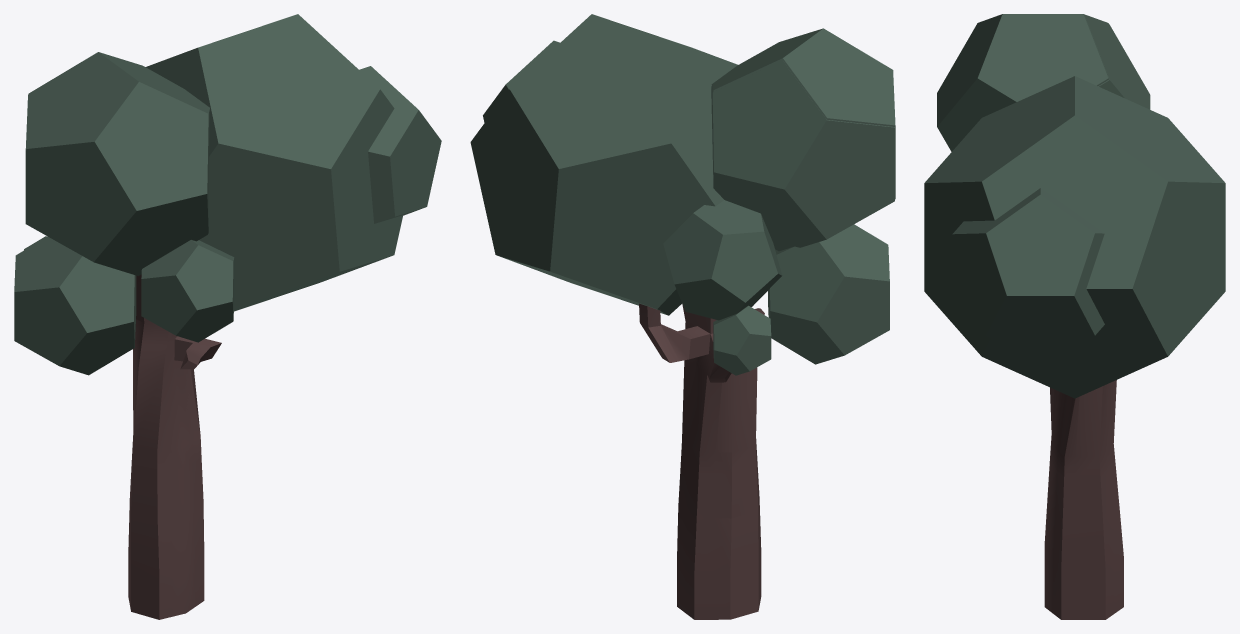
Rendered from bm-tree-green.gltf.
3 renders of one model, left to right at view 1: azimuth 30°, elevation 25°; view 2: azimuth 150°, elevation 25°; view 3: azimuth 270°, elevation 25°, orthographic.
Parts seen in each view (by area): view 1: Dodecahedron 8 (×5), Cube, Cube 2; view 2: Dodecahedron 8 (×6), Dodecahedron 3, Cube, Cube 2; view 3: Dodecahedron 8 (×3), Cube 2, Cube, Dodecahedron 3.
Part boxes in pixels (x1,y1,x2,y2): Dodecahedron 8 (×5): (14, 14, 441, 375); Cube: (132, 319, 204, 605); Cube 2: (128, 274, 221, 619); Dodecahedron 8 (×6): (470, 14, 895, 375); Dodecahedron 3: (711, 60, 894, 251); Cube: (639, 303, 756, 619); Cube 2: (661, 308, 764, 619); Dodecahedron 8 (×3): (924, 14, 1225, 398); Cube 2: (1044, 386, 1117, 619); Cube: (1047, 380, 1123, 619); Dodecahedron 3: (1085, 16, 1150, 109).
Size of the model in its own units: 7.49 by 10.08 by 4.92.
